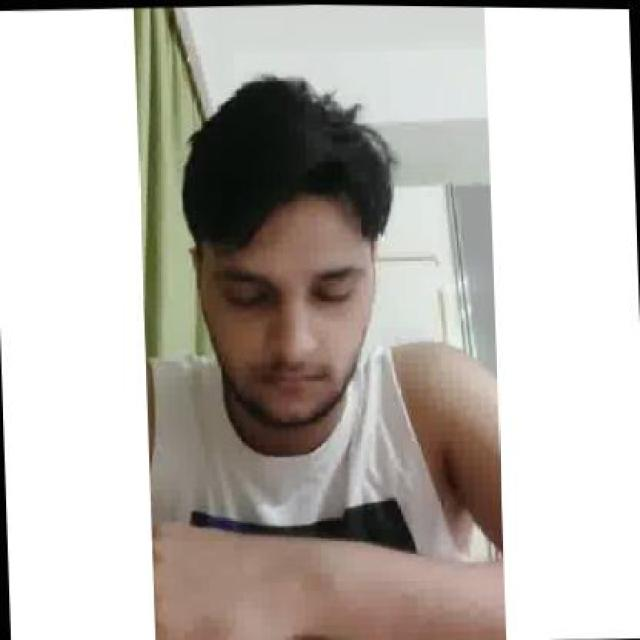inattentif: (188, 66, 389, 434)
